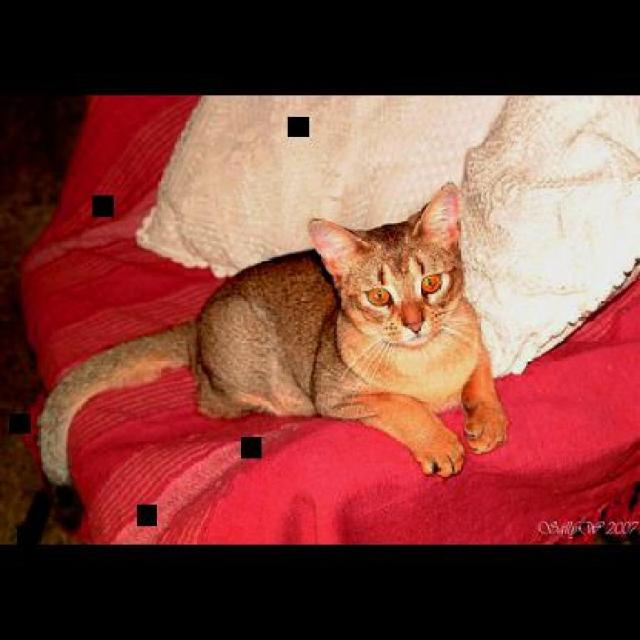unauthorized: (36, 180, 510, 480)
